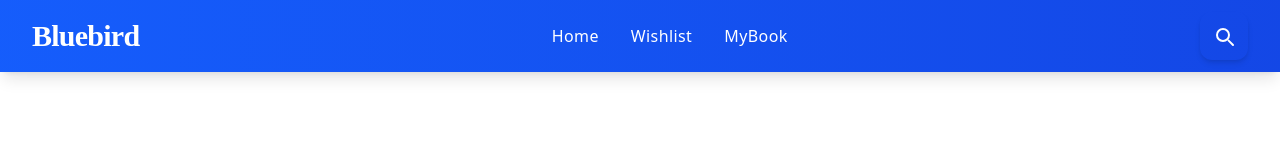
Navbar › shows search input when search button is clicked
The width and height of the screenshot is (1280, 160).
What coordinates should you click on to do the following:
click the button
I would click on:
 (1224, 36)
Its box is left=1200, top=12, right=1248, bottom=60.
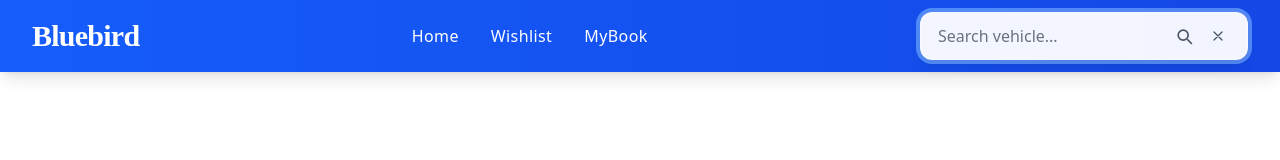
Expected: the field with placeholder "Search vehicle..." is shown, left=938, top=24, right=1162, bottom=48
